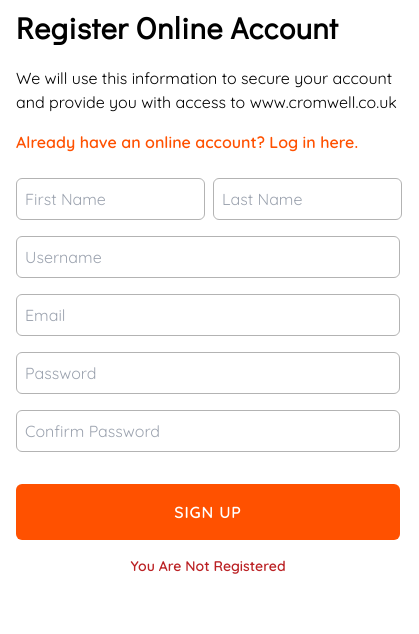
Test: SignUpForm › blank input fields returns an error
Click the button "SIGN UP".
click(208, 512)  # box [16,484,400,540]
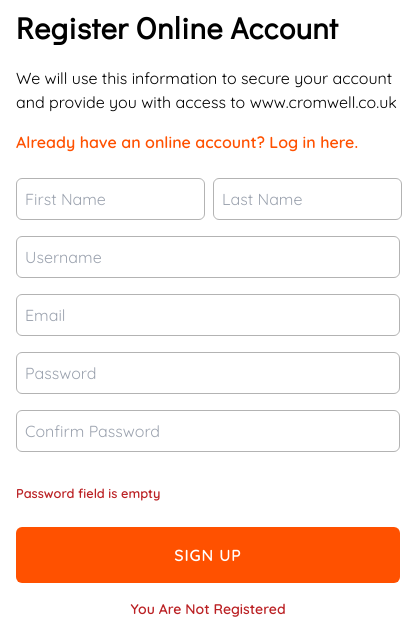
Check: the text "Password field is empty" is shown, box [16,485,160,501]
